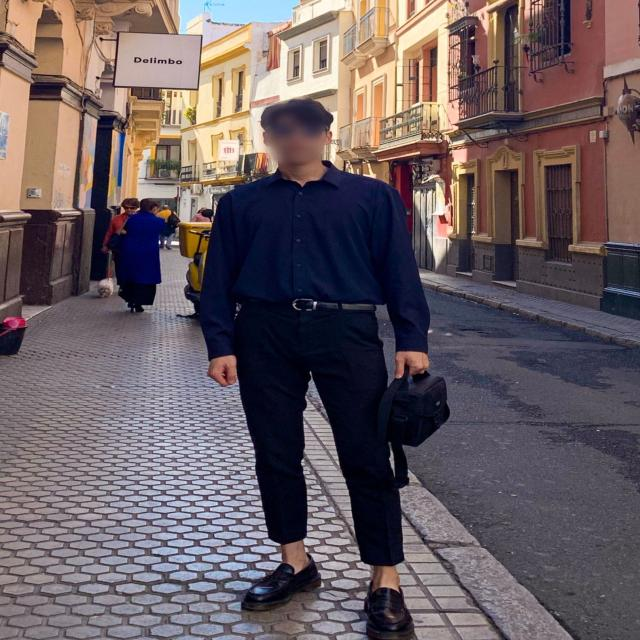shirt: (200, 161, 432, 362)
slacks: (236, 298, 409, 571)
